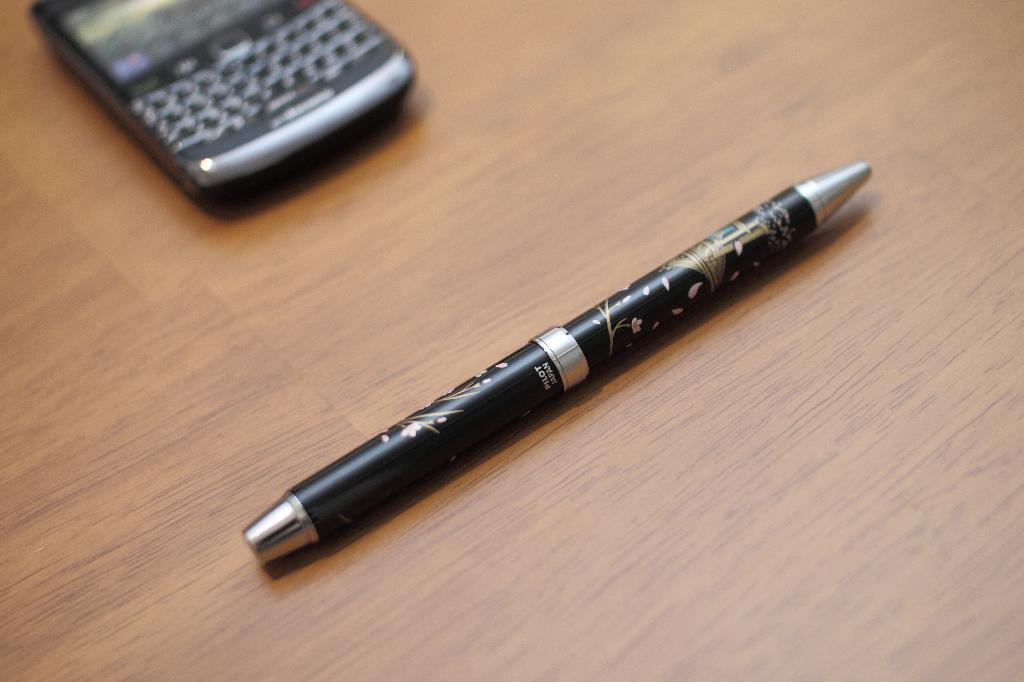pen: (240, 156, 874, 568)
